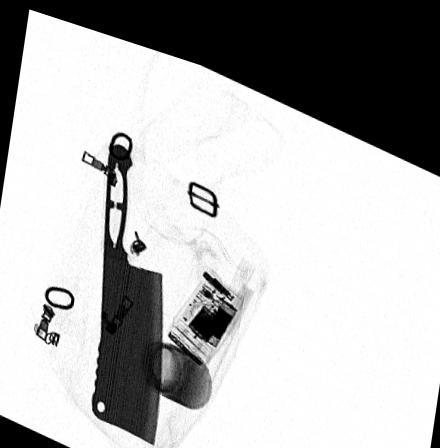Knife: (91, 135, 163, 436)
